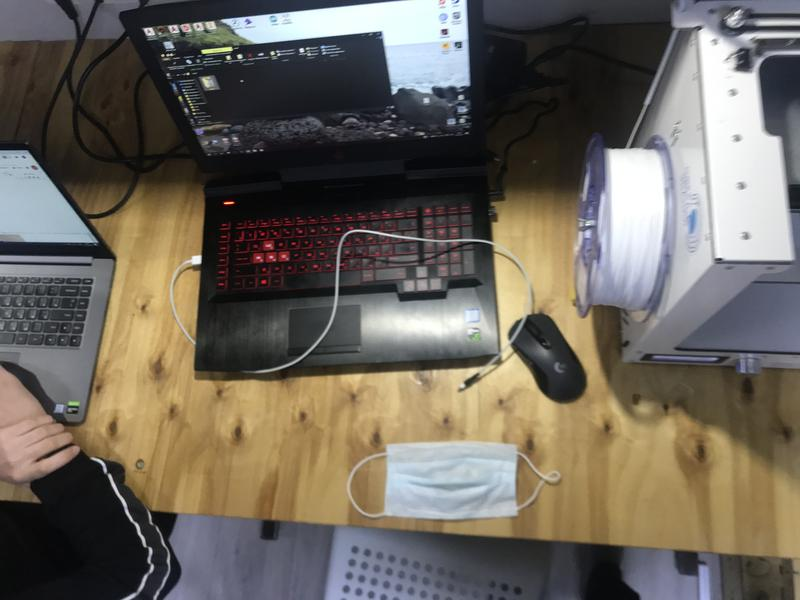medical_mask: (348, 444, 558, 518)
